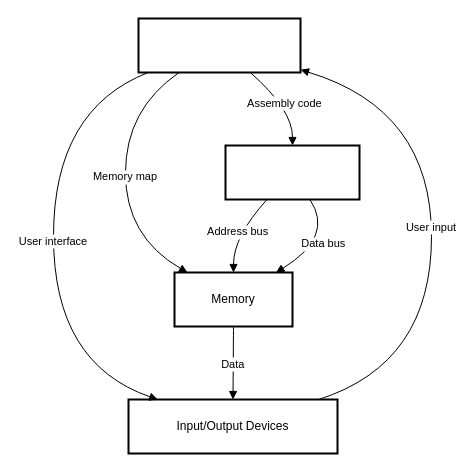
The diagram is 474 pixels wide and 471 high, and some of its shapes have lost their labels. Here are the shapes that lost their labels. From the top down, the centre of each, then its label:
(219,45): 6502 emulator
(292,172): 6502 CPU
